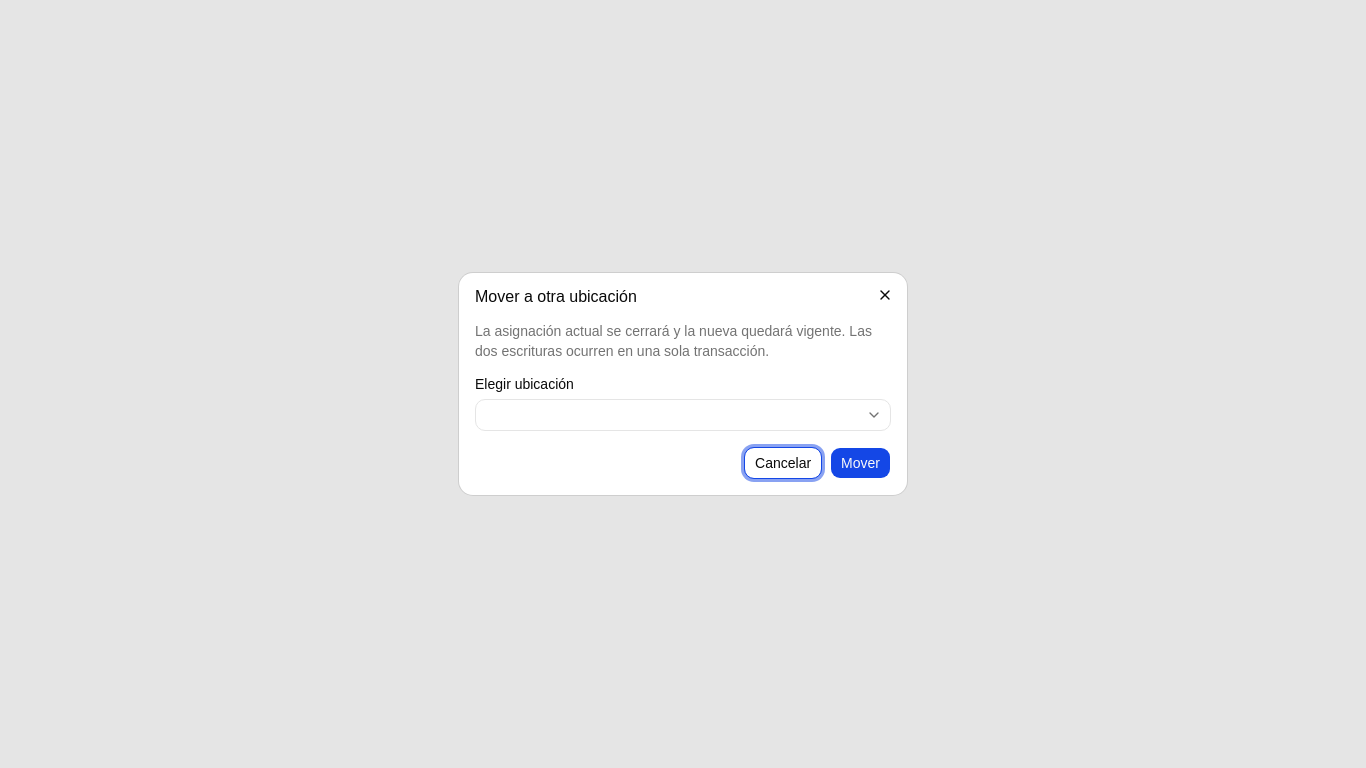
Test: ReassignGeoDialog — ESAVI-USERGEO-006 › el 409 SAME_GEOLOCATION se pinta en el campo del picker, no en un toast
This screenshot has width=1366, height=768.
Step 1. Click the dropdown named "Provincia" → (874, 415), box x1=475 y1=399 x2=891 y2=431
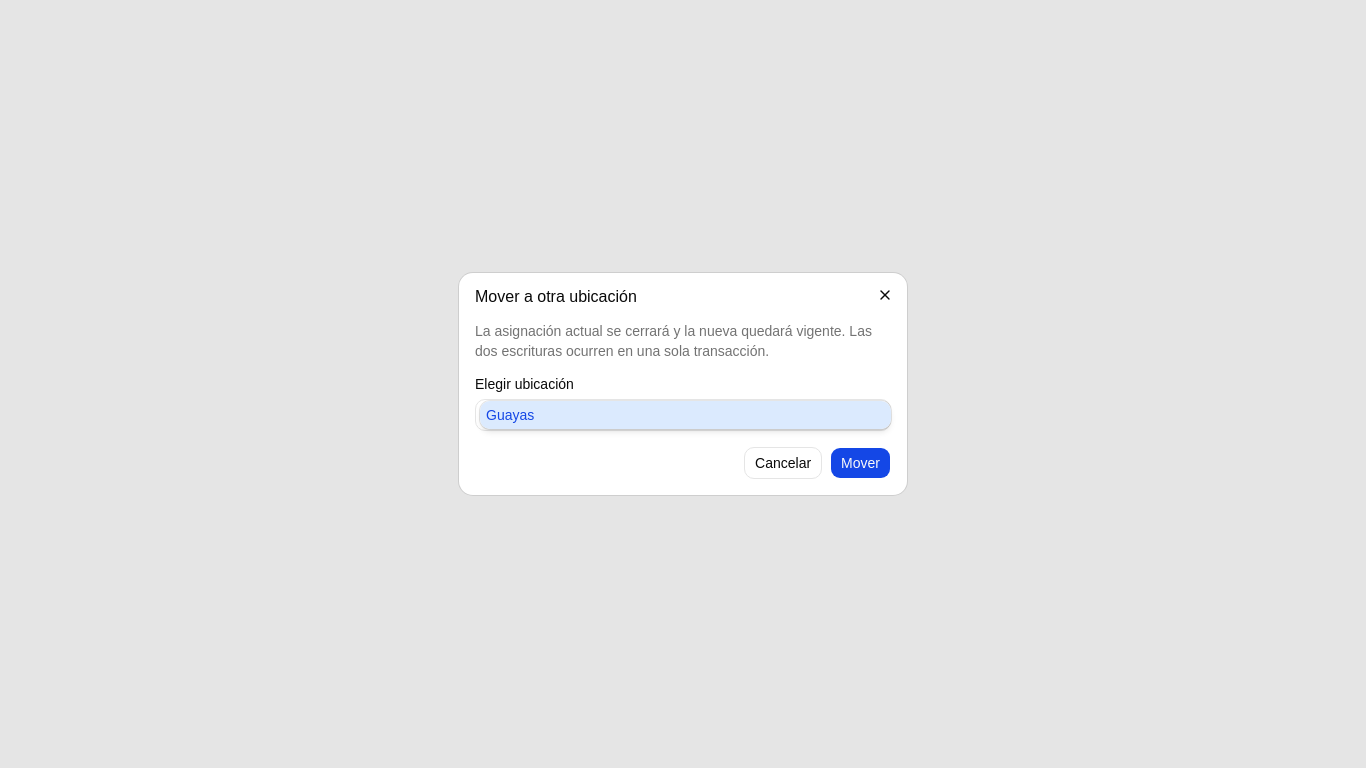
Step 2. Click the option "Guayas" → (510, 415), box x1=480 y1=401 x2=891 y2=429
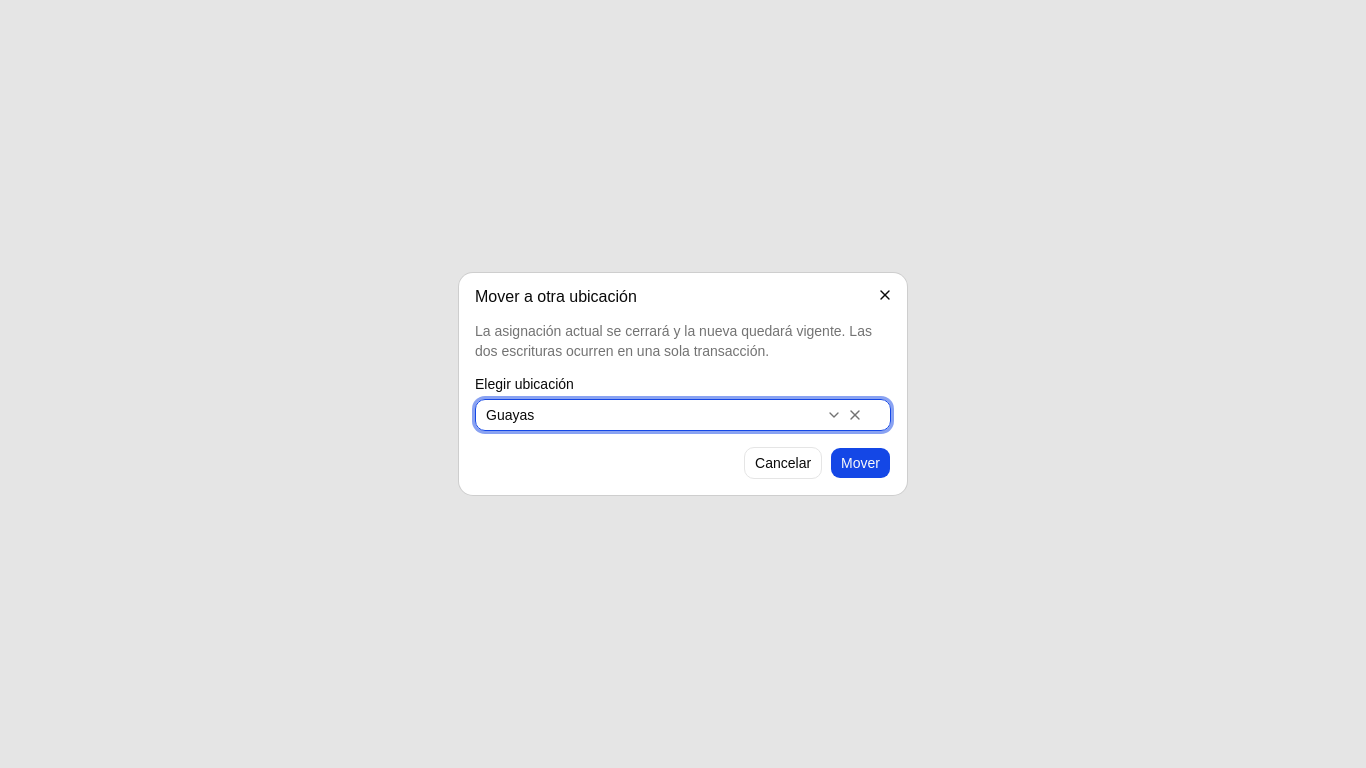
Step 3. Click the button "Mover" → (861, 463), box x1=830 y1=447 x2=891 y2=479
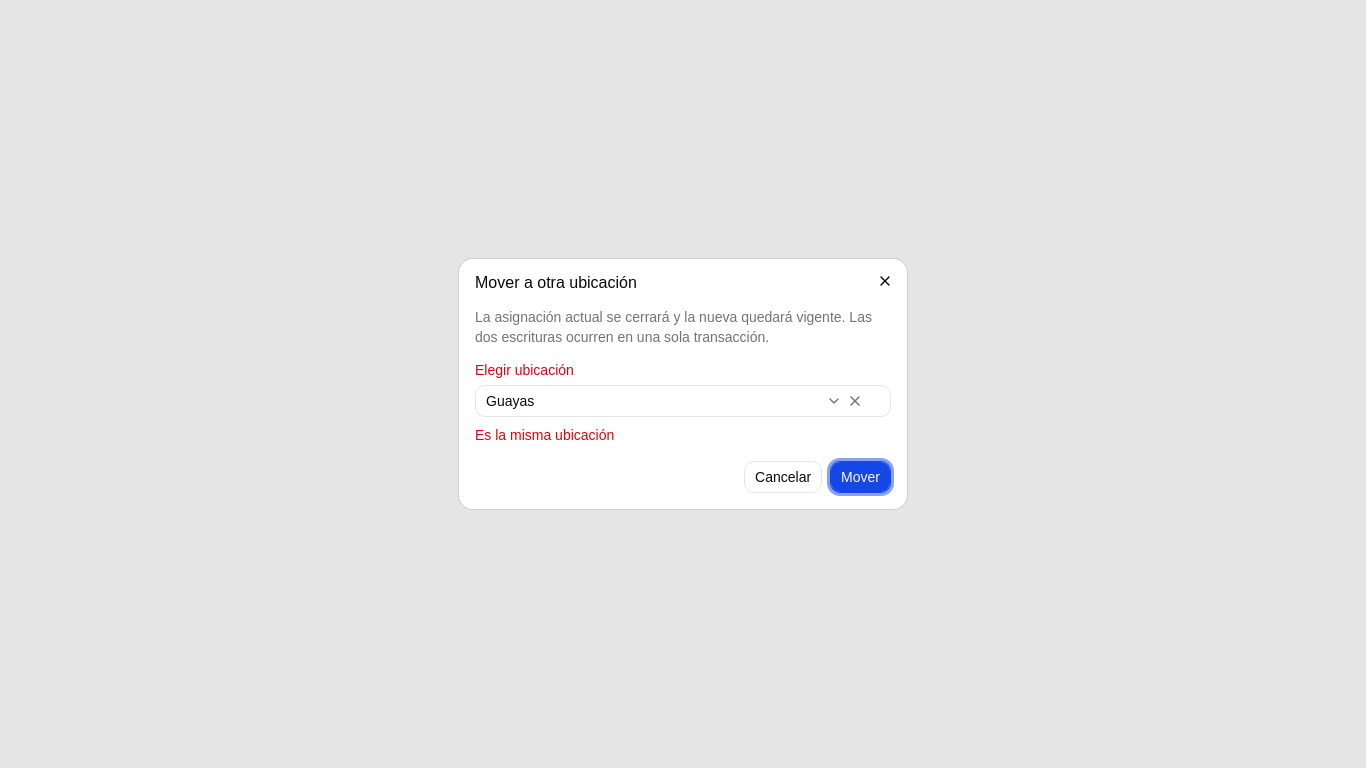
expect the text "Es la misma ubicación" is shown: met, box x1=475 y1=427 x2=614 y2=443
